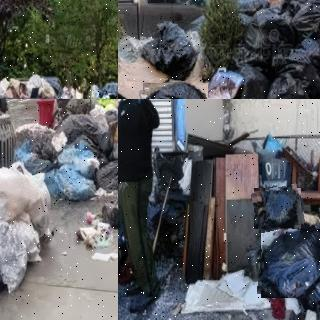Garbage: (259, 227, 320, 299), (136, 18, 197, 80), (252, 186, 303, 231), (243, 7, 290, 53), (41, 164, 94, 200), (270, 63, 320, 99), (140, 79, 210, 99), (93, 158, 118, 190), (101, 199, 118, 229), (311, 210, 320, 255)
